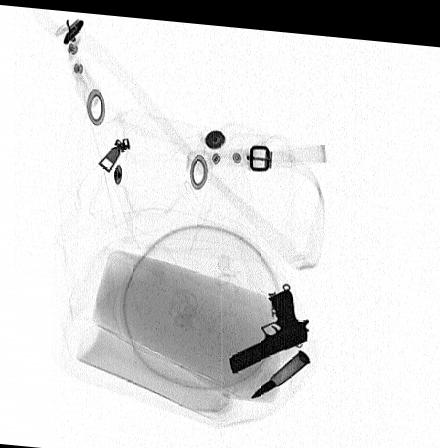Bullet: (250, 344, 310, 392)
Gun: (227, 281, 308, 368)
